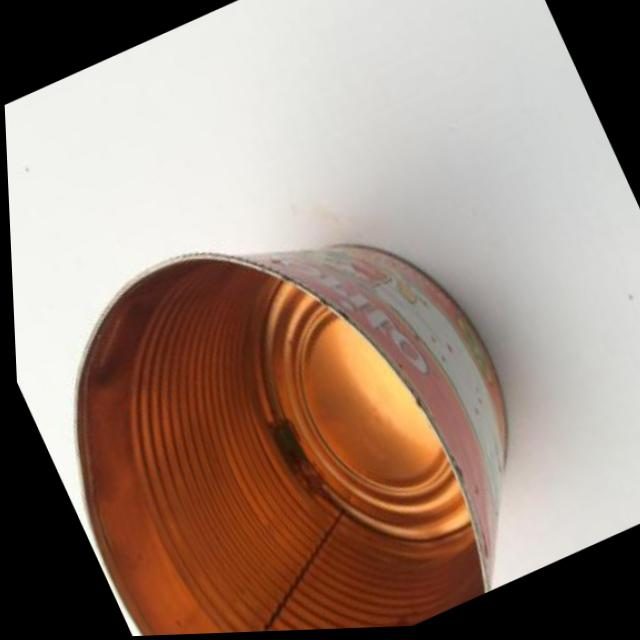metal: (0, 101, 548, 639)
